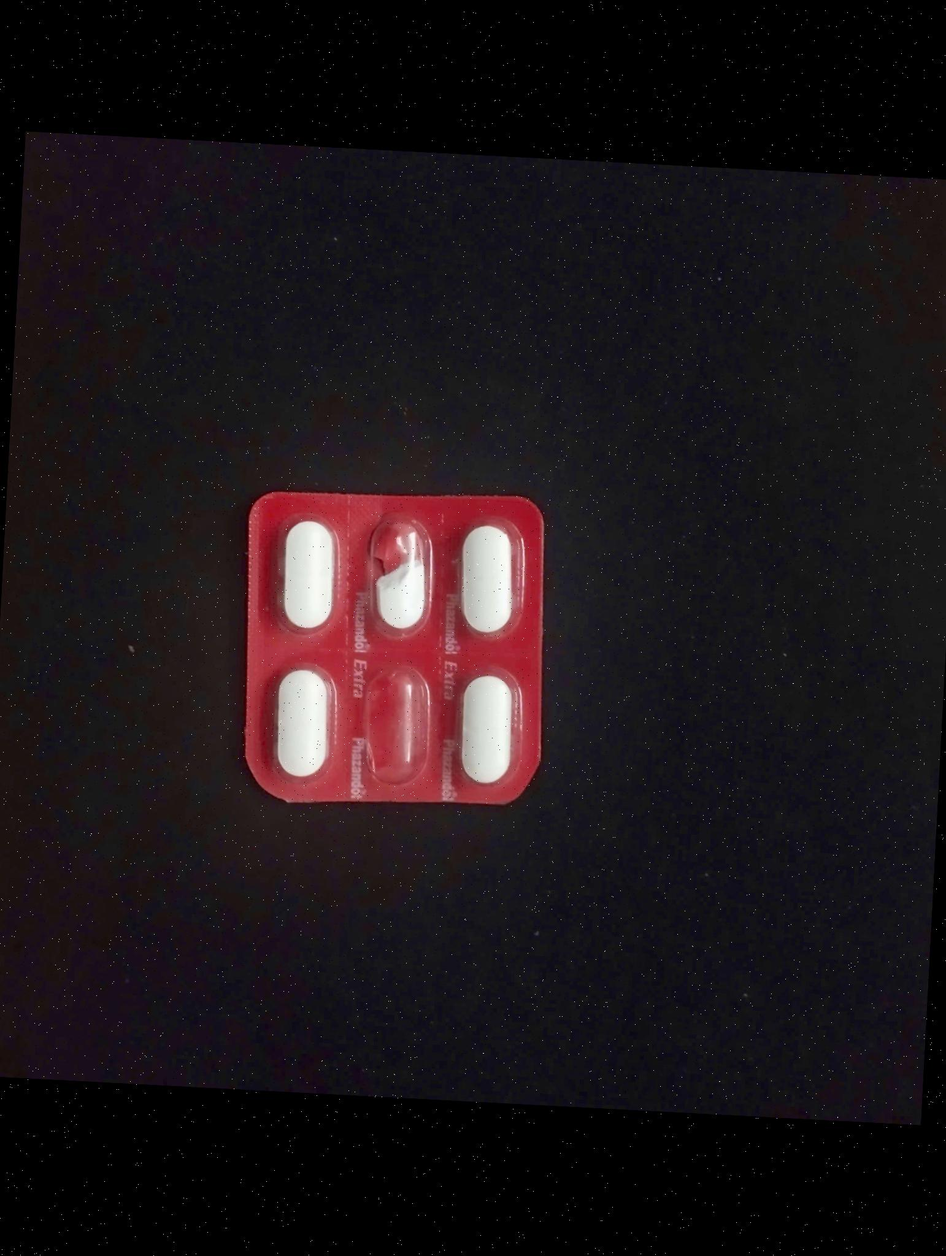Empty: (349, 669, 436, 795)
Full: (266, 508, 356, 641), (449, 517, 528, 648), (257, 662, 338, 787), (445, 674, 520, 799)
Partial: (358, 516, 441, 642)
